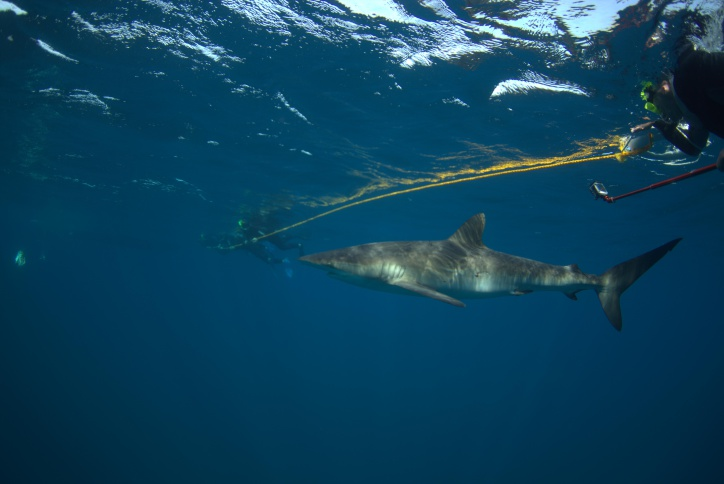Sedoso: (297, 205, 689, 345)
